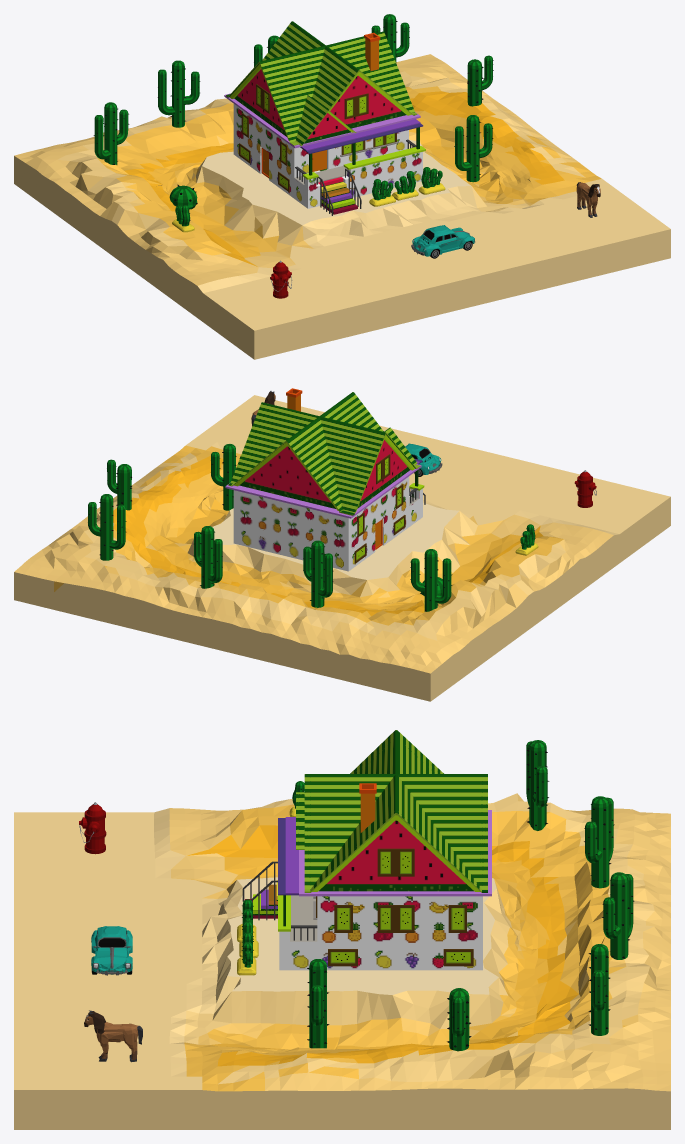
The picture shows the model from 3 angles, top to bottom: view 1: azimuth 30°, elevation 25°; view 2: azimuth 150°, elevation 25°; view 3: azimuth 270°, elevation 25°; orthographic projection. The views are drawn at different scales.
Parts seen in each view (by area): view 1: Cube.001, Cube.1063, Cylinder.037, Cylinder.044, Cylinder.045, VEHICLES_VOLKSWAGEN, Cylinder.038, Cylinder.042, ANIMAL_CABALLO, OBJRANDOM_FIRE_HYDRANT, Cylinder.039, Cylinder.041 (+2 smaller); view 2: Cube.001, Cube.1063, Cylinder.042, Cylinder.045, Cylinder.044, Cylinder.043, Cylinder.037, Cylinder.038, VEHICLES_VOLKSWAGEN, OBJRANDOM_FIRE_HYDRANT; view 3: Cube.001, Cube.1063, Cylinder.043, Cylinder.044, VEHICLES_VOLKSWAGEN, Cylinder.045, Cylinder.042, Cylinder.037, ANIMAL_CABALLO, Cylinder.038, OBJRANDOM_FIRE_HYDRANT, Cylinder.041.
Boxes of the visible parts, box(x1,y1,x2,y2) form: Cube.001: box(14, 54, 670, 359); Cube.1063: box(224, 21, 425, 215); Cylinder.037: box(454, 115, 493, 182); Cylinder.044: box(157, 60, 200, 127); Cylinder.045: box(93, 102, 129, 164); VEHICLES_VOLKSWAGEN: box(411, 225, 475, 258); Cylinder.038: box(467, 55, 493, 106); Cylinder.042: box(371, 14, 409, 62); ANIMAL_CABALLO: box(576, 182, 600, 217); OBJRANDOM_FIRE_HYDRANT: box(270, 260, 292, 298); Cylinder.039: box(369, 179, 395, 206); Cylinder.041: box(418, 167, 445, 194); Cube.001: box(14, 395, 670, 701); Cube.1063: box(225, 388, 425, 571); Cylinder.042: box(88, 494, 126, 560); Cylinder.045: box(410, 549, 452, 611); Cylinder.044: box(303, 540, 333, 607); Cylinder.043: box(193, 526, 222, 588); Cylinder.037: box(211, 444, 240, 510); Cylinder.038: box(107, 459, 131, 510); VEHICLES_VOLKSWAGEN: box(405, 443, 442, 476); OBJRANDOM_FIRE_HYDRANT: box(574, 470, 596, 507); Cube.001: box(14, 793, 670, 1129); Cube.1063: box(242, 730, 491, 970); Cylinder.043: box(602, 872, 634, 959); Cylinder.044: box(584, 796, 614, 888); VEHICLES_VOLKSWAGEN: box(91, 926, 132, 975); Cylinder.045: box(526, 740, 549, 830); Cylinder.042: box(588, 944, 610, 1035); Cylinder.037: box(307, 959, 329, 1048); ANIMAL_CABALLO: box(84, 1010, 142, 1062); Cylinder.038: box(447, 988, 471, 1051); OBJRANDOM_FIRE_HYDRANT: box(79, 802, 106, 854); Cylinder.041: box(237, 932, 256, 975).
Size of the model in its own units: 4002 by 1650 by 4001.
Materials: 32 (5 with a texture image).
